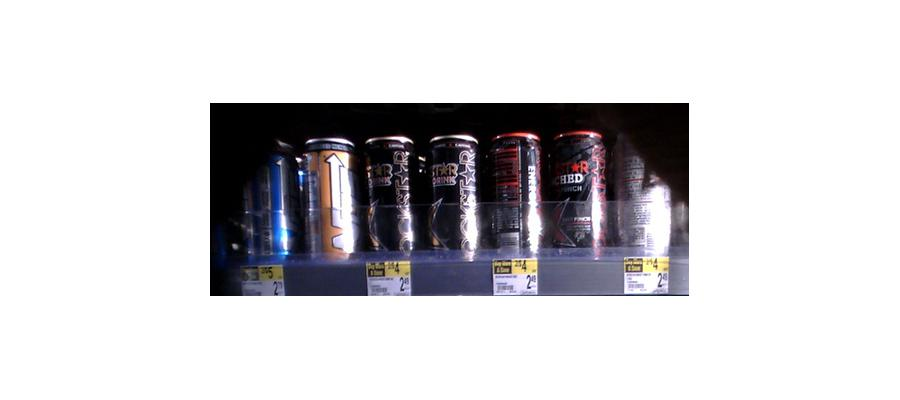bottle: (549, 131, 608, 256), (487, 131, 541, 260), (617, 127, 666, 269), (425, 133, 480, 256), (302, 137, 356, 257), (245, 136, 295, 265), (361, 135, 415, 253)
